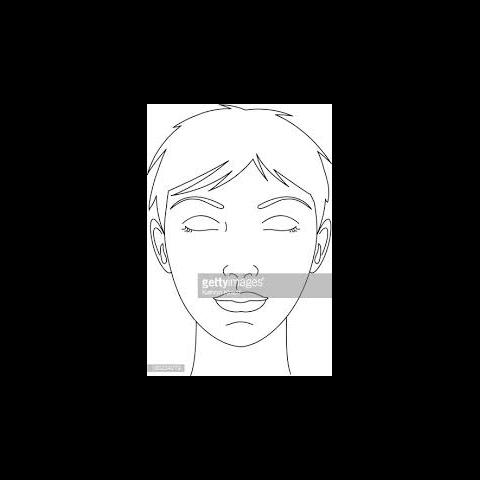closed: (166, 188, 320, 246)
